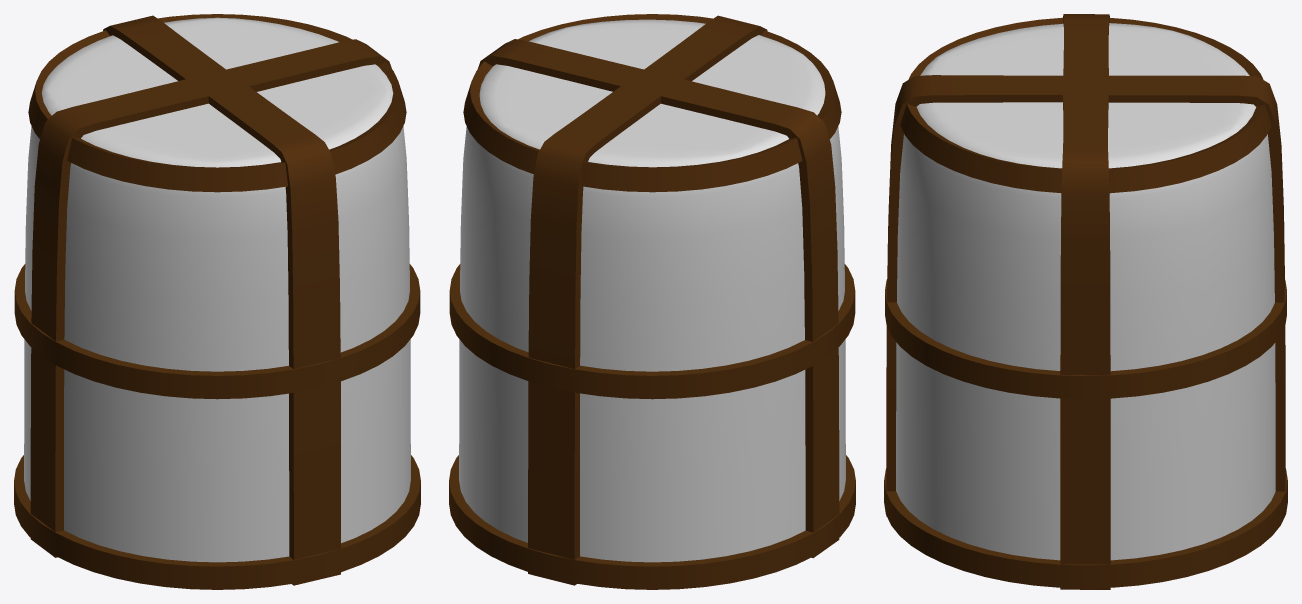
The model's file is маленький фонарь.fbx.
3 views of the same model, side by side, from view 1: azimuth 30°, elevation 25°; view 2: azimuth 150°, elevation 25°; view 3: azimuth 270°, elevation 25° (orthographic).
Visible parts, largest first — view 1: маленький фонарь_LOD0, орнамент маленького фонаря_LOD0, орнамент маленького фонаря_ring3_LOD0, орнамент маленького фонаря_ring2_LOD0, орнамент маленького фонаря ring_LOD0; view 2: маленький фонарь_LOD0, орнамент маленького фонаря_LOD0, орнамент маленького фонаря_ring3_LOD0, орнамент маленького фонаря_ring2_LOD0, орнамент маленького фонаря ring_LOD0; view 3: маленький фонарь_LOD0, орнамент маленького фонаря_LOD0, орнамент маленького фонаря_ring3_LOD0, орнамент маленького фонаря_ring2_LOD0, орнамент маленького фонаря ring_LOD0.
Boxes of the visible parts, bbox=[...] form: маленький фонарь_LOD0: bbox=[24, 17, 410, 562]; орнамент маленького фонаря_LOD0: bbox=[30, 15, 391, 585]; орнамент маленького фонаря_ring3_LOD0: bbox=[14, 455, 420, 589]; орнамент маленького фонаря_ring2_LOD0: bbox=[14, 264, 420, 399]; орнамент маленького фонаря ring_LOD0: bbox=[28, 14, 406, 192]; маленький фонарь_LOD0: bbox=[459, 19, 845, 562]; орнамент маленького фонаря_LOD0: bbox=[478, 15, 839, 585]; орнамент маленького фонаря_ring3_LOD0: bbox=[449, 455, 855, 589]; орнамент маленького фонаря_ring2_LOD0: bbox=[449, 264, 855, 399]; орнамент маленького фонаря ring_LOD0: bbox=[463, 14, 841, 192]; маленький фонарь_LOD0: bbox=[896, 23, 1275, 560]; орнамент маленького фонаря_LOD0: bbox=[886, 14, 1285, 589]; орнамент маленького фонаря_ring3_LOD0: bbox=[884, 468, 1287, 588]; орнамент маленького фонаря_ring2_LOD0: bbox=[885, 279, 1286, 399]; орнамент маленького фонаря ring_LOD0: bbox=[900, 17, 1271, 193].
Size of what is drawn, in the model's own units: 27.52 by 31.6 by 27.52.
